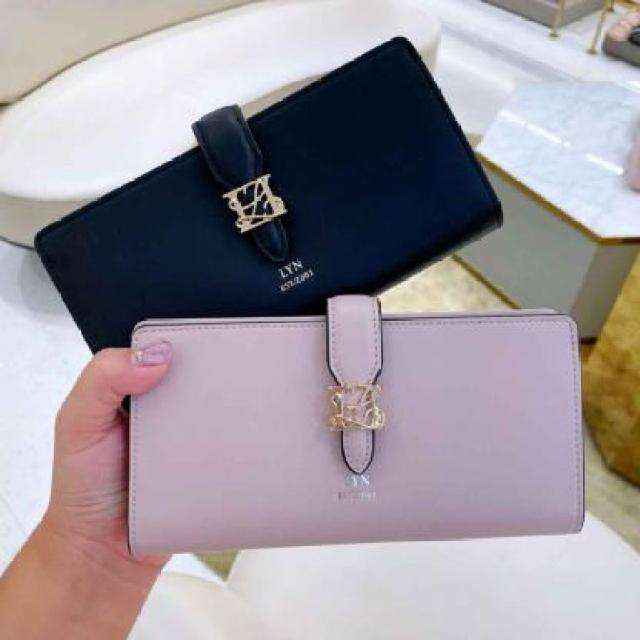Bag: (14, 29, 492, 372), (105, 286, 606, 594)
